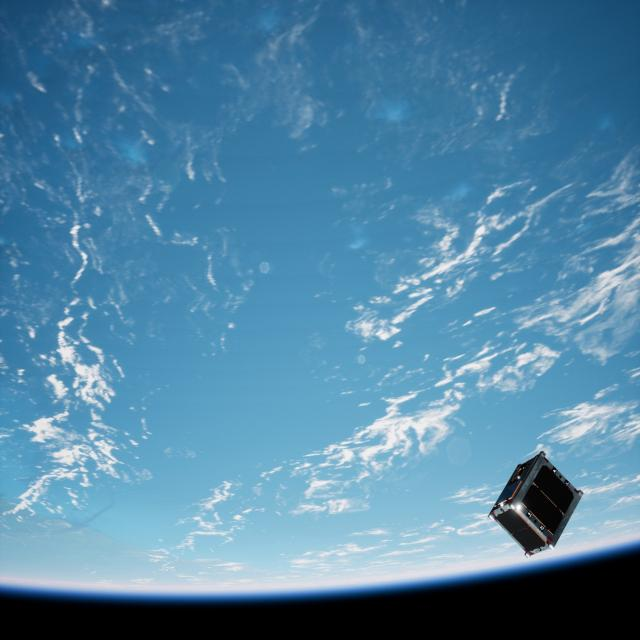medium_debris: (488, 450, 588, 556)
